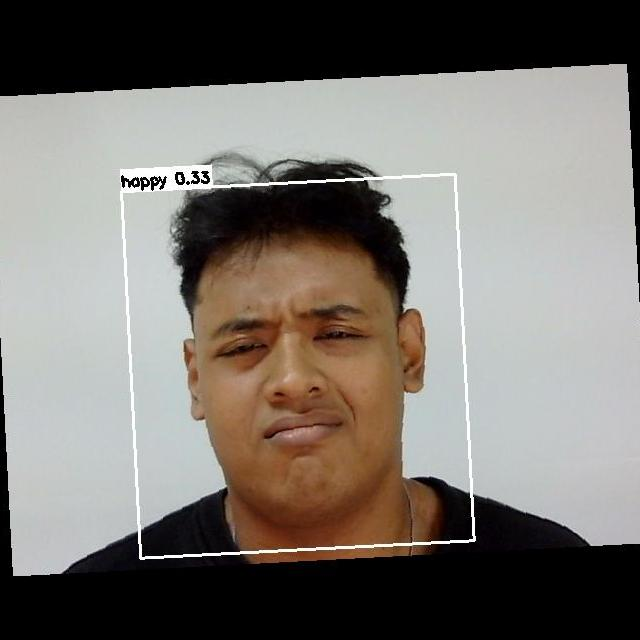Disgust: (183, 278, 425, 479)
